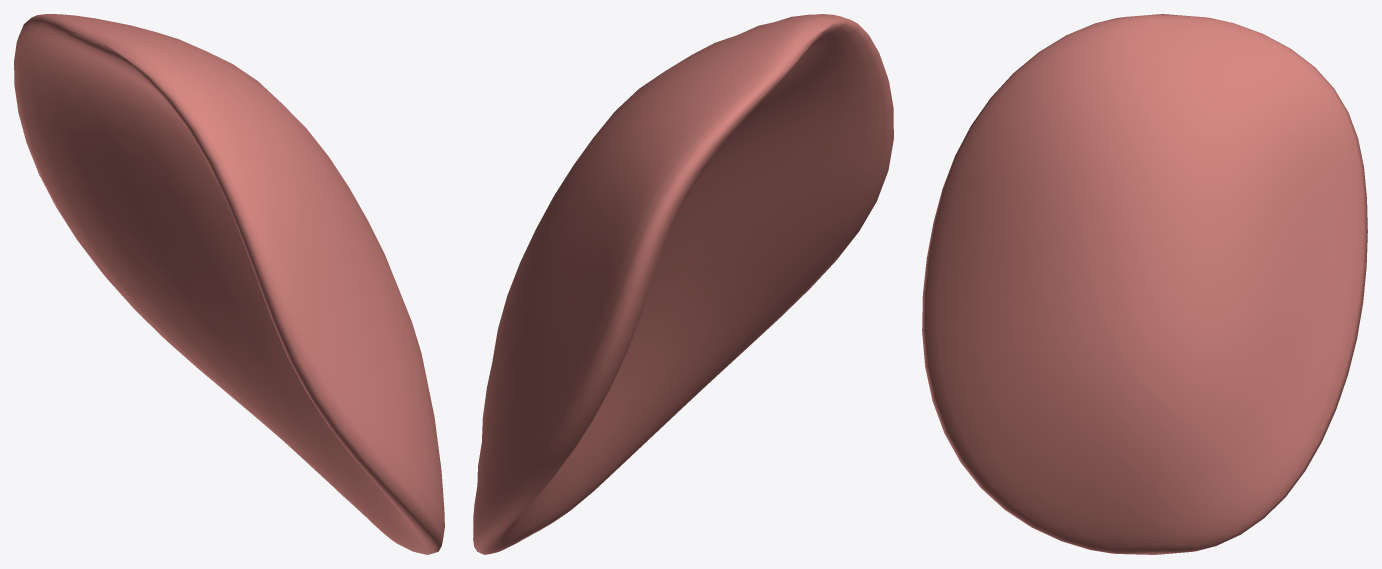
3 renders of one model, left to right at view 1: azimuth 30°, elevation 25°; view 2: azimuth 150°, elevation 25°; view 3: azimuth 270°, elevation 25°, orthographic. The views are drawn at different scales.
Parts seen in each view (by area): view 1: ZA_1d79cd08fed134b1; view 2: ZA_1d79cd08fed134b1; view 3: ZA_1d79cd08fed134b1.
Boxes of the visible parts, left/top/right/bottom form: ZA_1d79cd08fed134b1: left=14, top=14, right=444, bottom=554; ZA_1d79cd08fed134b1: left=473, top=14, right=893, bottom=554; ZA_1d79cd08fed134b1: left=922, top=14, right=1367, bottom=554.
Bounding box in the file's own units: 0.0117 × 0.0206 × 0.019.
